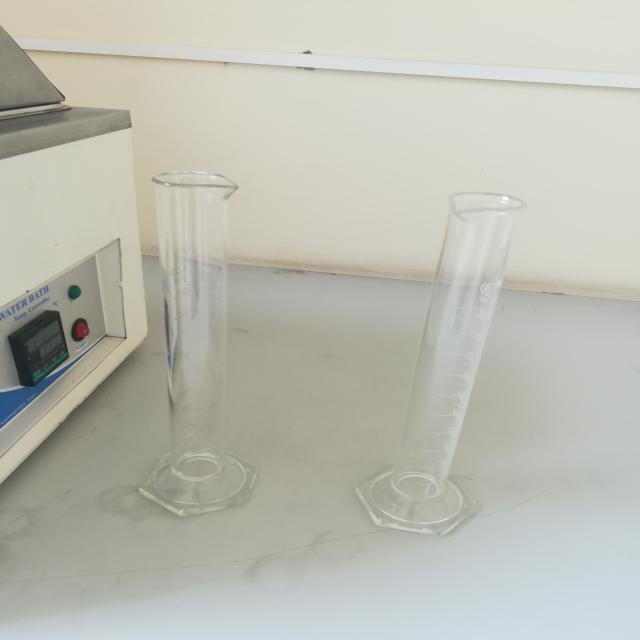Measuring_Cylinder: (330, 165, 544, 563), (95, 141, 296, 544)
